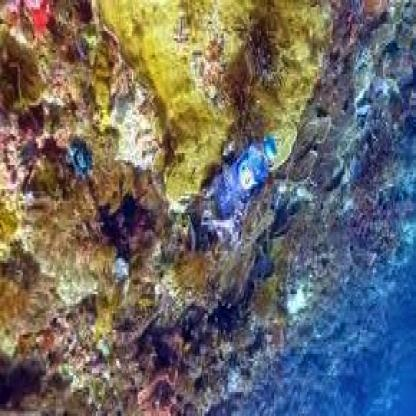pbottle: (207, 129, 278, 227)
